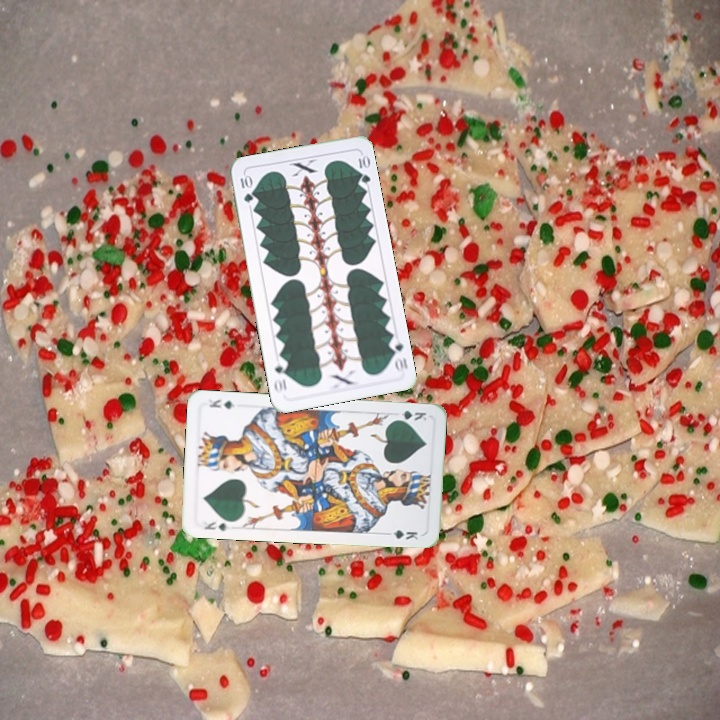G10: (385, 334, 410, 374), (236, 171, 255, 205)
GK: (390, 406, 429, 424), (200, 518, 232, 533)
